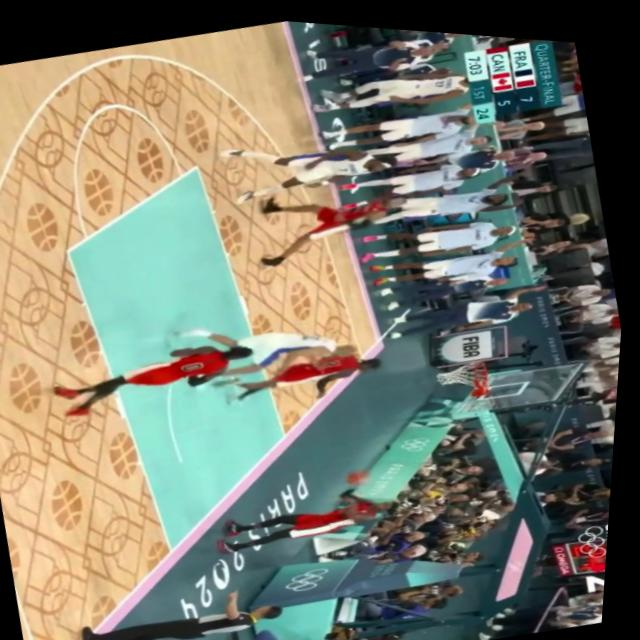ball_handler: (213, 448, 411, 562)
